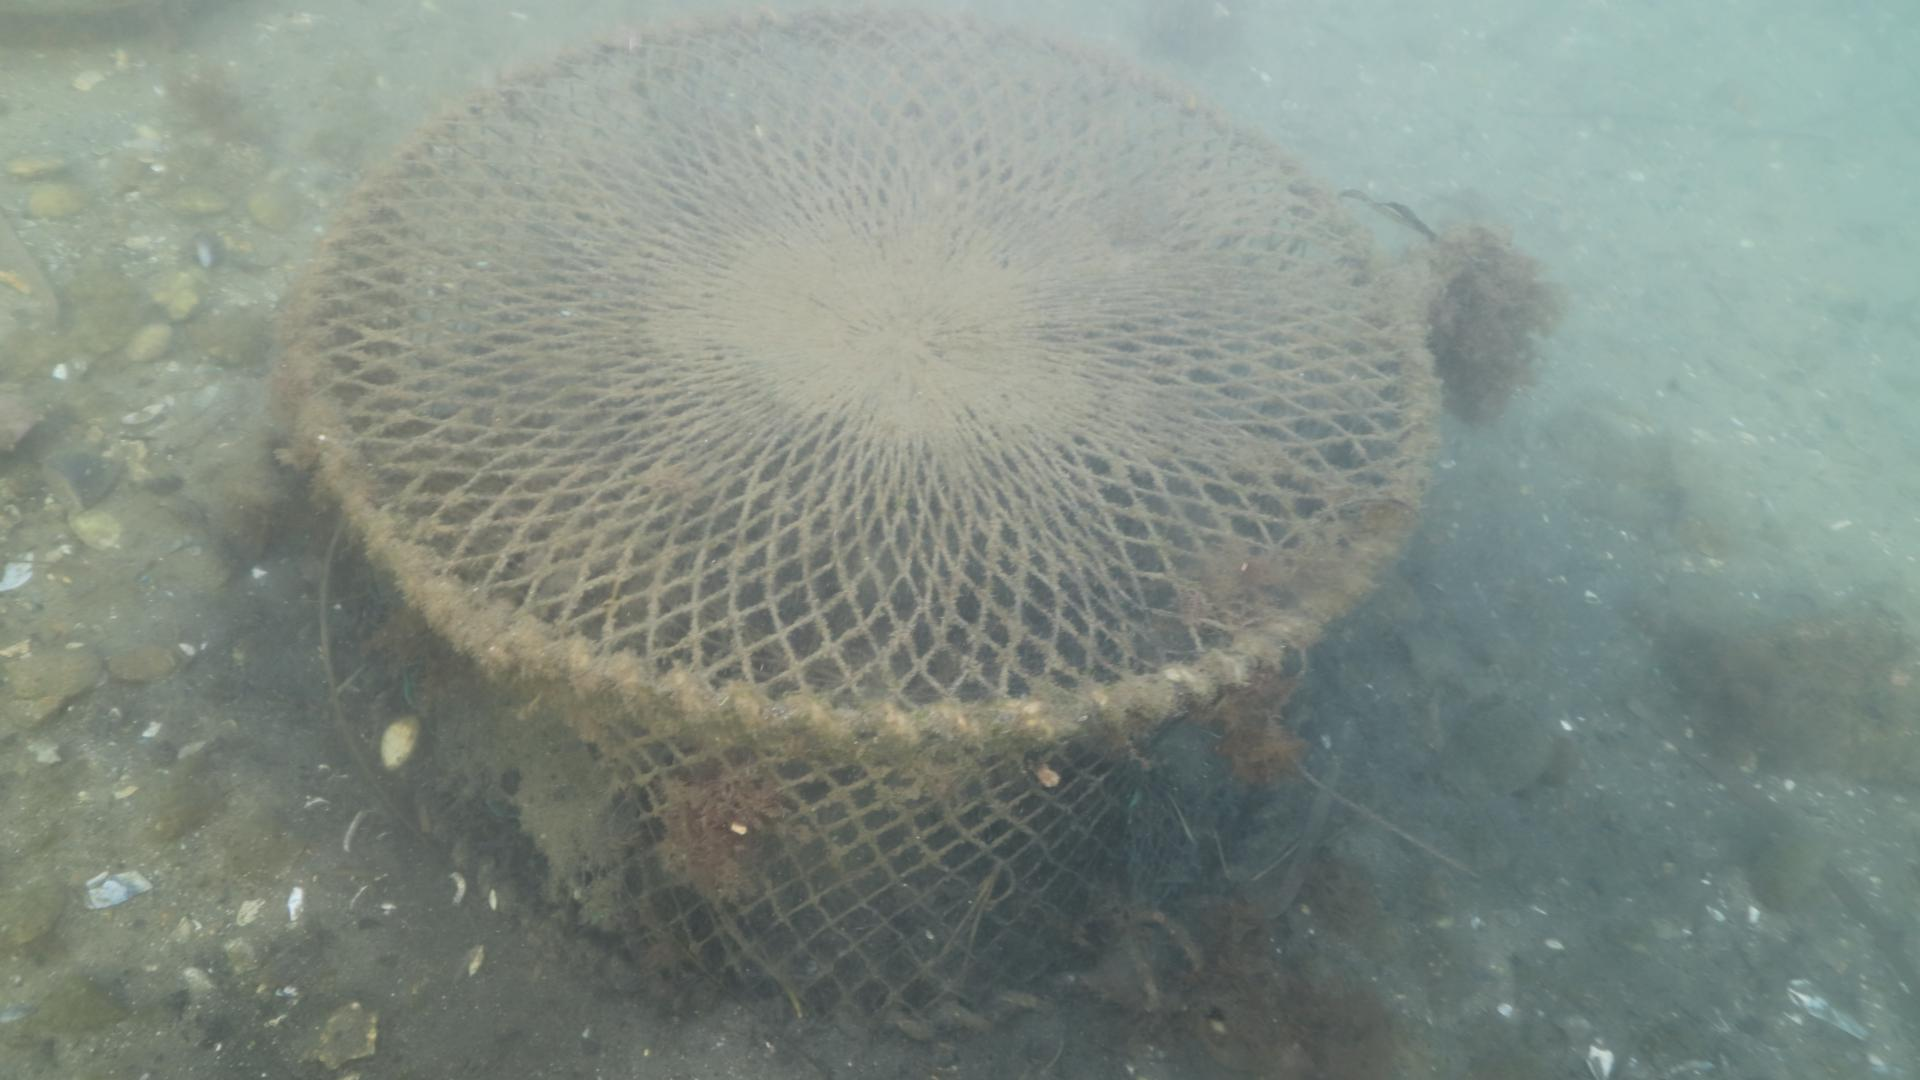circular fish trap: (285, 8, 1437, 1036)
